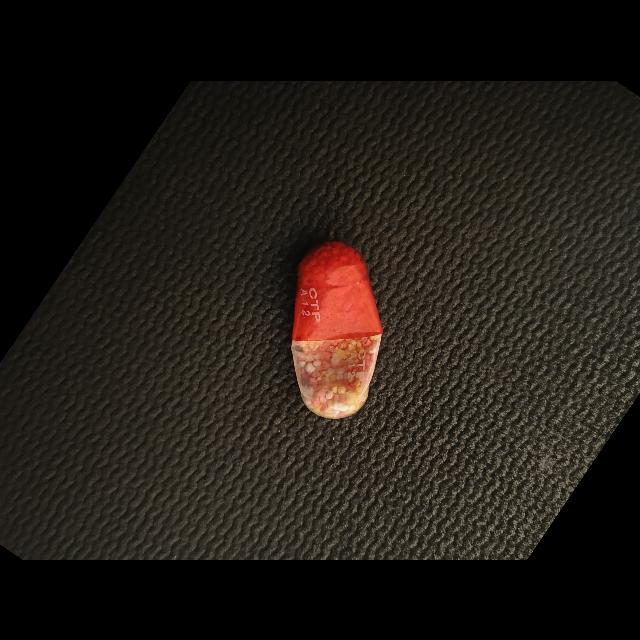Defective Capsule: (291, 240, 383, 419)
